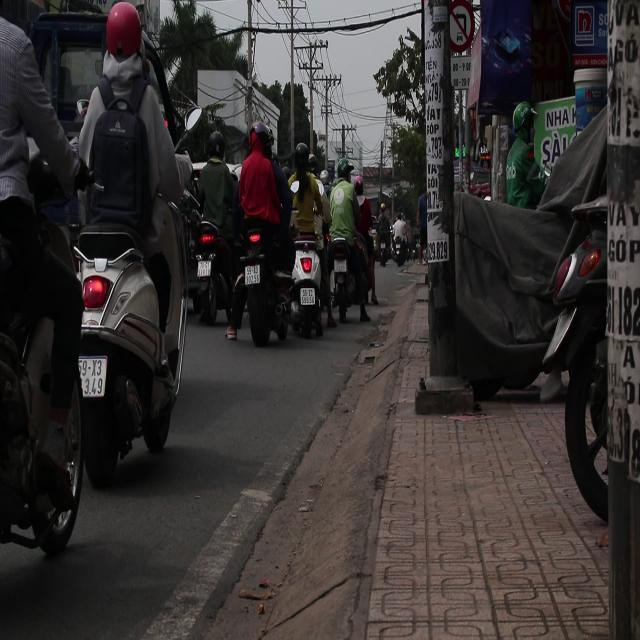motorbike: (61, 135, 192, 467), (0, 105, 86, 578), (190, 160, 242, 345), (230, 217, 296, 347), (328, 224, 393, 325), (284, 230, 330, 342)
